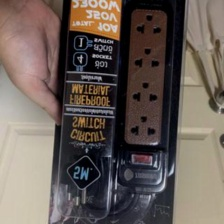book: (43, 0, 190, 224)
three_eye_plug: (111, 0, 177, 194)
